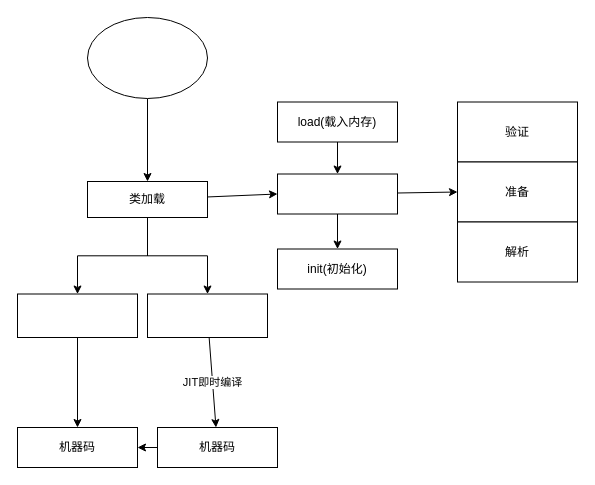
The diagram is 595 pixels wide and 485 high, and some of its shapes have lost their labels. Each missing label, with the box of its shape:
link(链接): (276, 173, 398, 214)
字节码: (86, 16, 208, 98)
编译执行: (146, 293, 268, 338)
解释执行: (16, 293, 138, 338)
